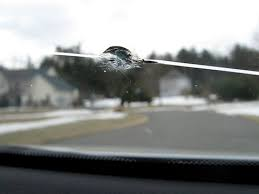bullseye: (88, 42, 150, 80)
scratch: (156, 53, 251, 83)
